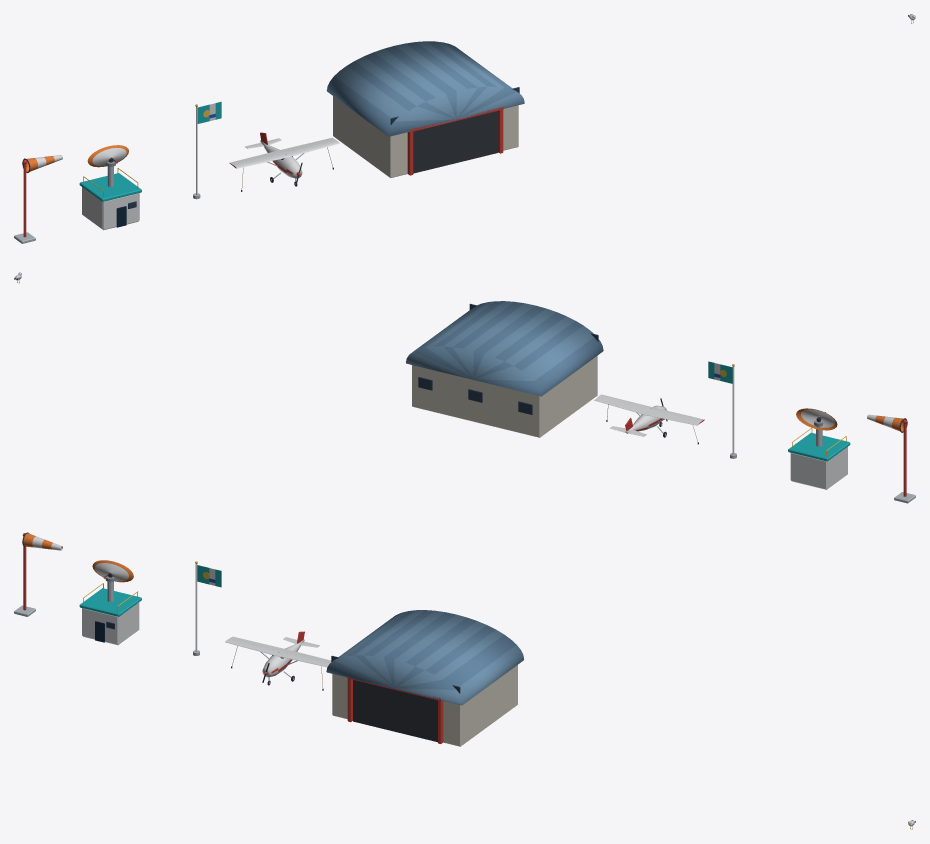
Rendered from skyport-field.glb.
3 views of the same model, one above another, from view 1: azimuth 30°, elevation 25°; view 2: azimuth 150°, elevation 25°; view 3: azimuth 330°, elevation 25° (orthographic).
Visible parts, largest first — view 1: sp_clubhouse_mesh, sp_radar_mesh, sp_gaplane_mesh, sp_radar_dish_mesh; view 2: sp_clubhouse_mesh, sp_radar_mesh, sp_gaplane_mesh, sp_radar_dish_mesh; view 3: sp_clubhouse_mesh, sp_radar_mesh, sp_gaplane_mesh, sp_radar_dish_mesh.
Part boxes in pixels (x1,y1,x2,y2): sp_clubhouse_mesh: (326, 41, 524, 177); sp_radar_mesh: (79, 160, 141, 230); sp_gaplane_mesh: (229, 132, 339, 191); sp_radar_dish_mesh: (87, 145, 128, 167); sp_clubhouse_mesh: (406, 301, 603, 437); sp_radar_mesh: (788, 420, 850, 489); sp_gaplane_mesh: (594, 394, 704, 444); sp_radar_dish_mesh: (796, 408, 837, 430); sp_clubhouse_mesh: (326, 610, 523, 746); sp_radar_mesh: (79, 576, 141, 645); sp_gaplane_mesh: (225, 631, 331, 690); sp_radar_dish_mesh: (92, 560, 133, 582).
Size of the model in its own units: 62.67 by 6.25 by 7.5.
